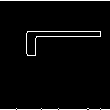L_E: (7, 40, 103, 70)
